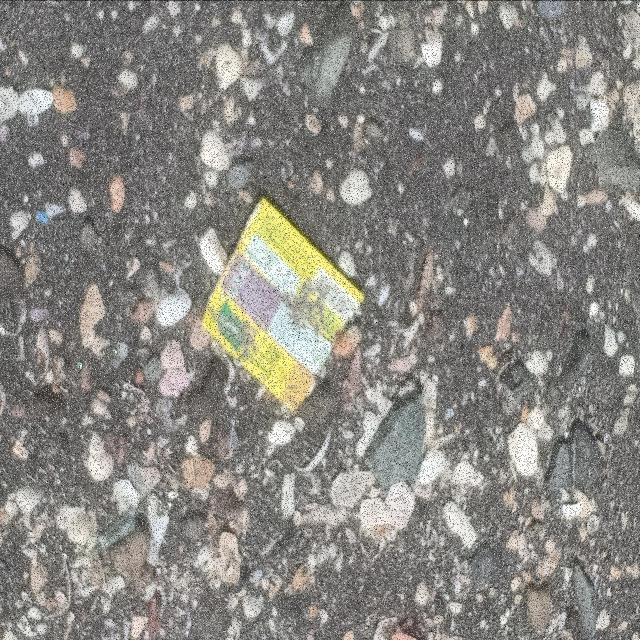plastic_waste: (202, 196, 369, 416)
